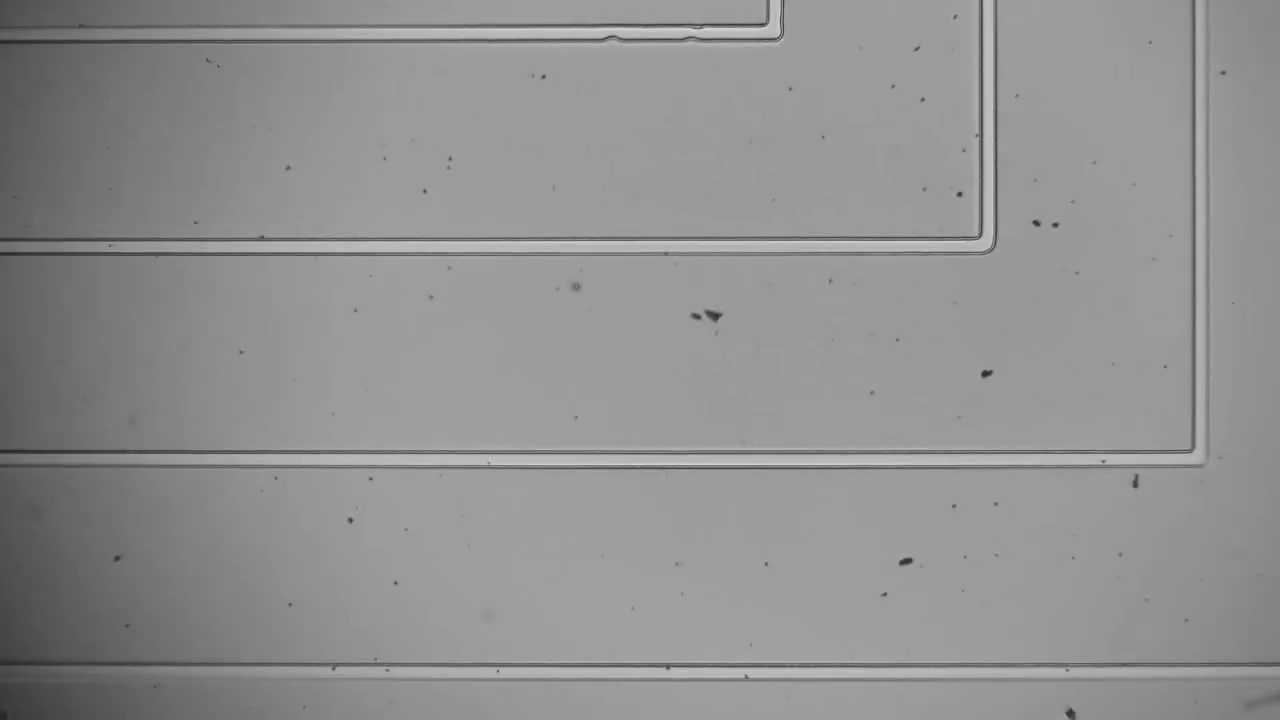edge_bite: (594, 17, 629, 51), (675, 21, 710, 53)
